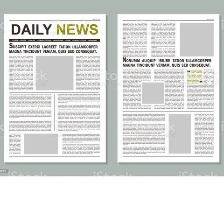news_paper: (114, 12, 221, 164), (2, 13, 107, 164)
